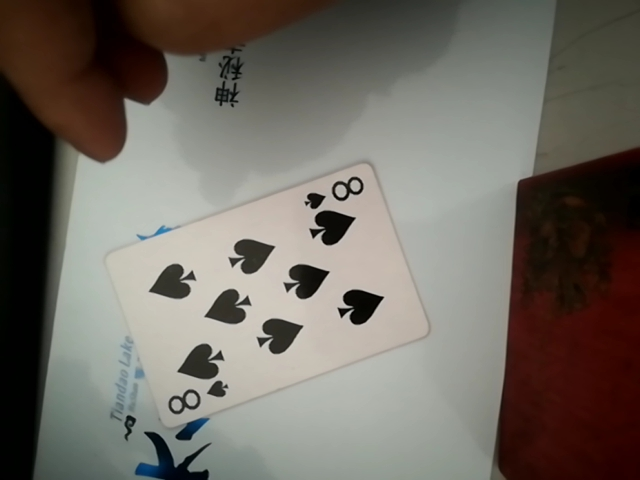ht 8: (121, 159, 423, 433)
